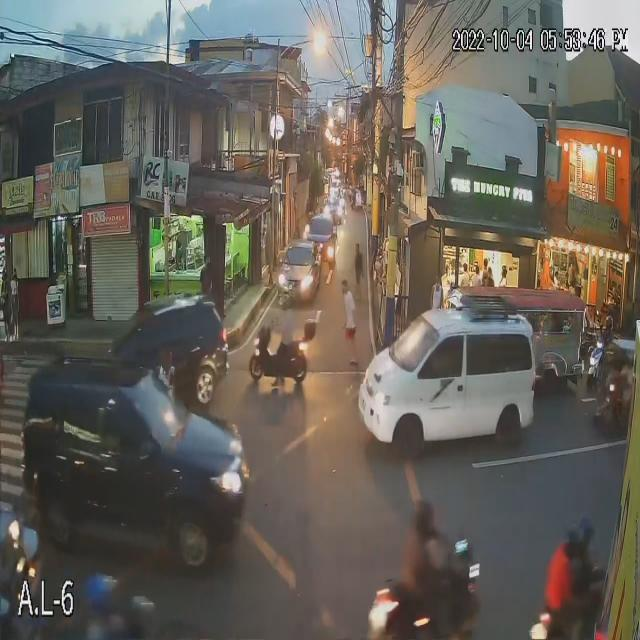helmet: (567, 521, 584, 550), (579, 517, 595, 547), (278, 288, 296, 307), (603, 315, 617, 332)
motorcycle: (365, 574, 487, 640), (246, 324, 317, 384), (532, 596, 597, 640), (586, 336, 608, 381)
rider: (403, 527, 470, 640), (573, 547, 596, 639), (271, 307, 295, 388), (550, 541, 572, 628), (601, 329, 614, 346)
